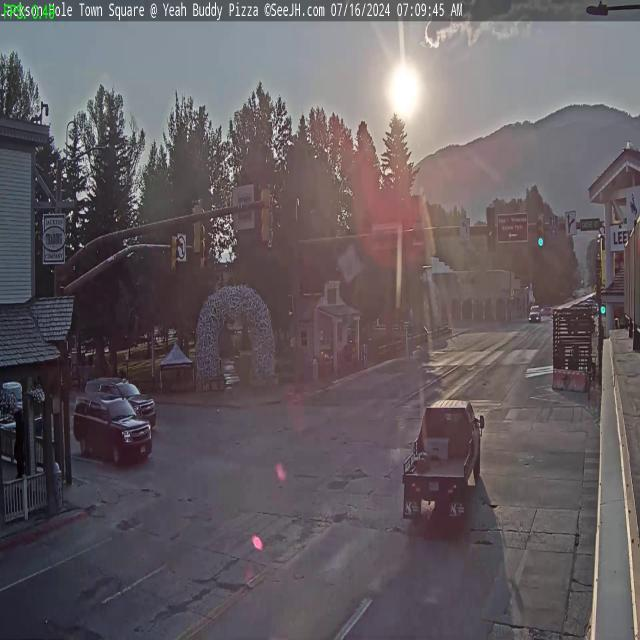suv: (72, 398, 151, 472), (91, 376, 157, 428)
traffic light: (260, 184, 274, 246), (190, 200, 204, 256), (486, 206, 496, 253), (168, 232, 178, 278), (536, 214, 546, 247)
truck: (388, 390, 483, 540)
